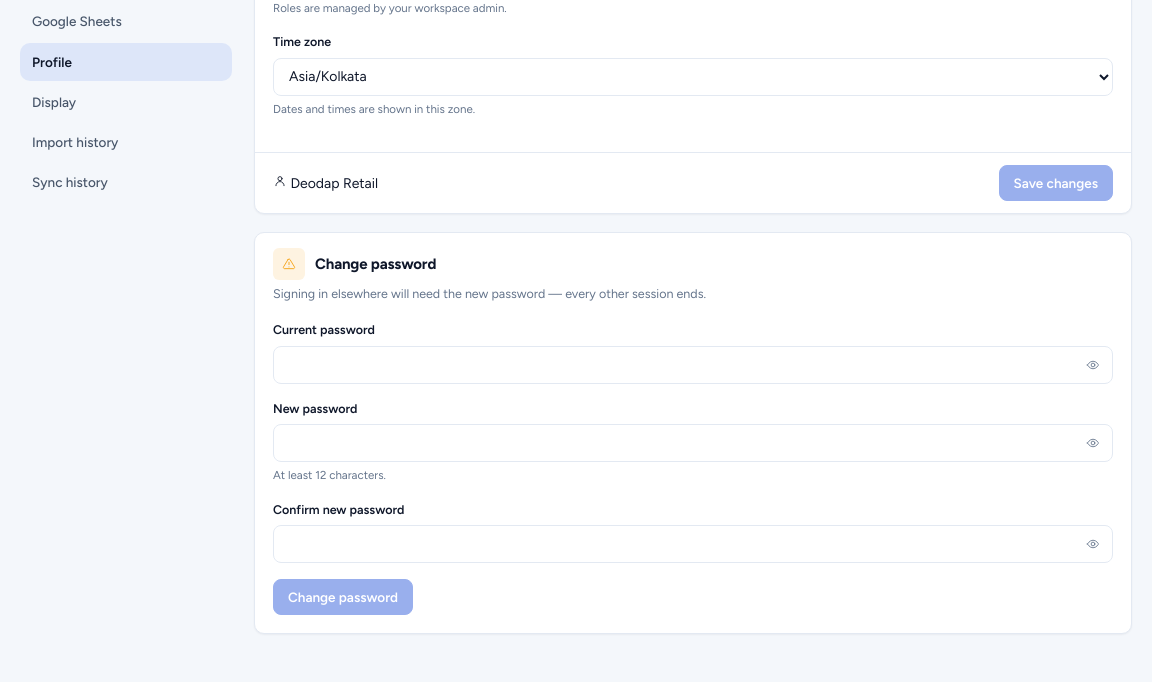
Scenario: Change password › catches two new passwords that do not match before sending anything
(page scrolled)
Type "correct horse battery" into the password field labelled "Current password" at (693, 364), box x1=273 y1=346 x2=1113 y2=384
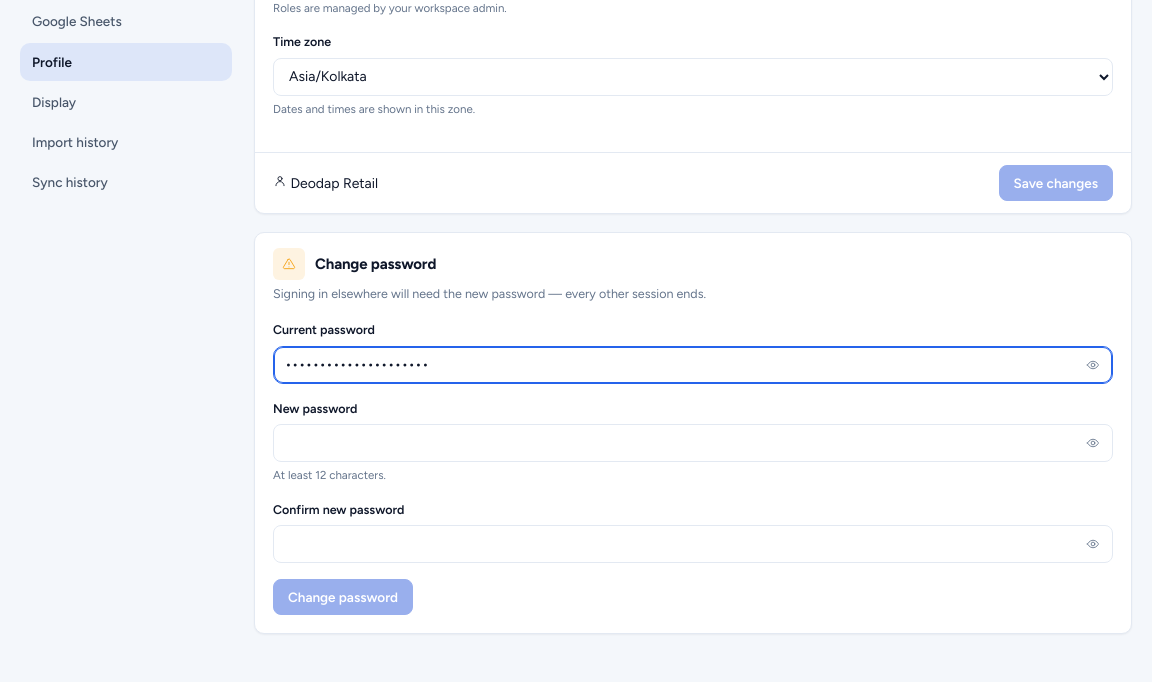
Type "a longer secret here" into the password field labelled "New password" at (693, 443), box x1=273 y1=424 x2=1113 y2=462
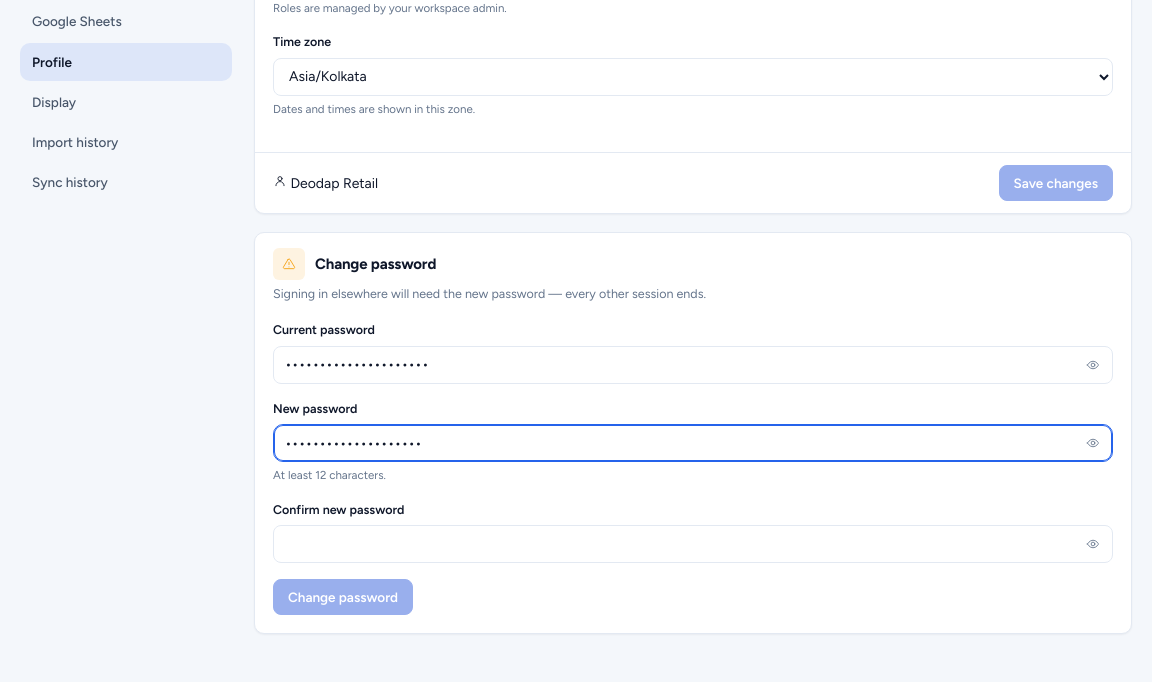
Type "a longer secret her" into the password field labelled "Confirm new password" at (693, 544), box x1=273 y1=525 x2=1113 y2=563
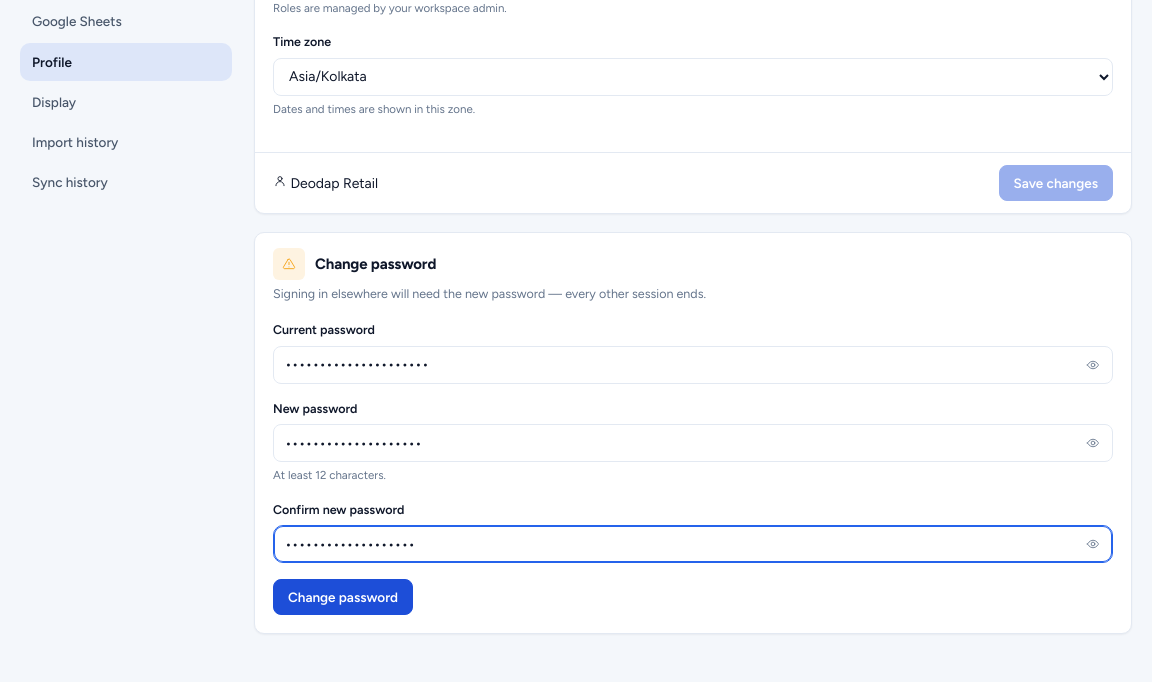
Click the button "Change password" at (343, 597), box x1=273 y1=579 x2=413 y2=615
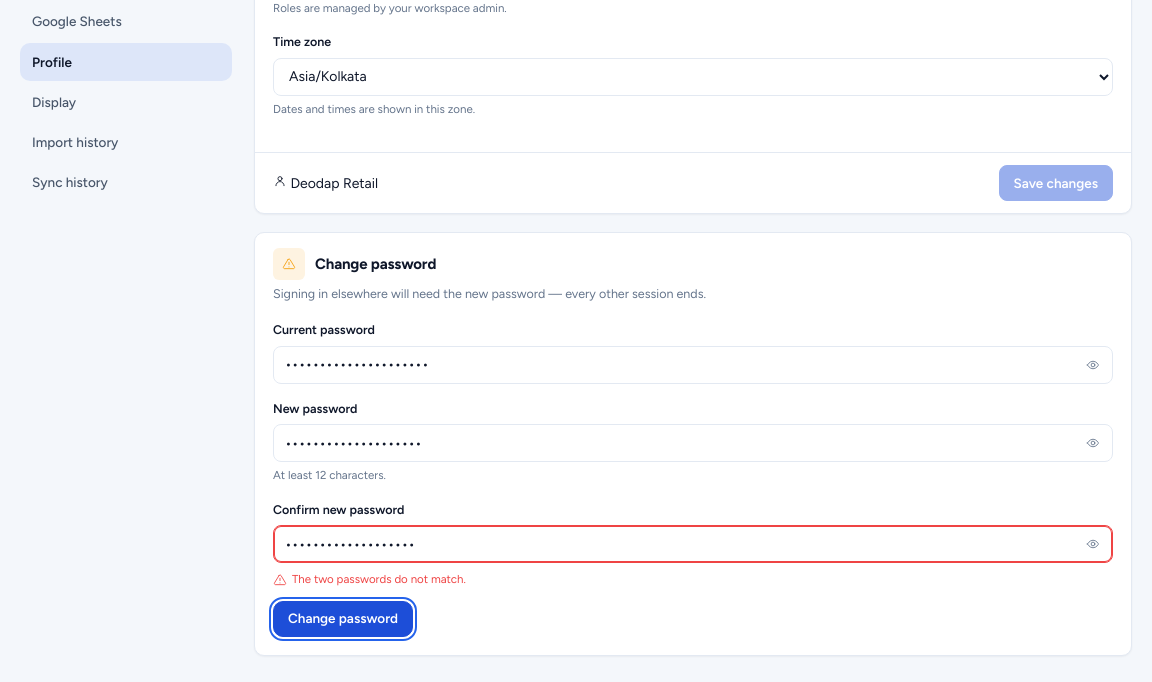
Check: the text "The two passwords do not match." is shown, box x1=273 y1=572 x2=466 y2=587
